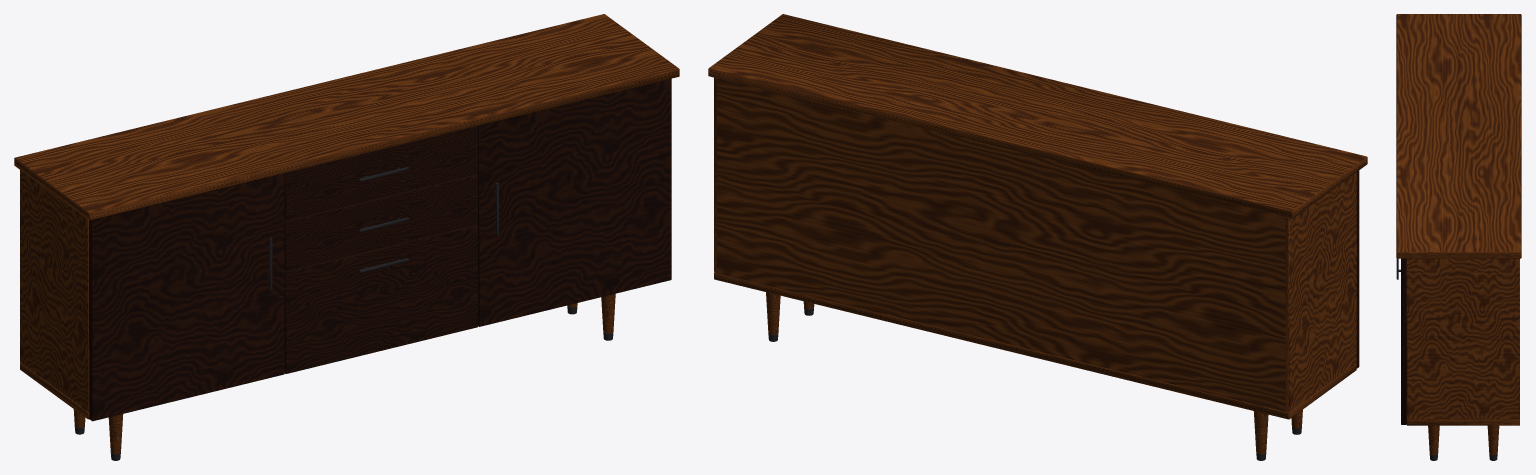
The model's file is dining_sideboard.glb.
3 views of the same model, side by side, from view 1: azimuth 30°, elevation 25°; view 2: azimuth 150°, elevation 25°; view 3: azimuth 270°, elevation 25° (orthographic). The views are drawn at different scales.
Visible parts, largest first — view 1: Ust_Taskin_Tabla, Kapak_Sol, Kapak_Sag, Kapak_Orta_Alt, Govde_Sol_Yan, Cekmece_Orta, Cekmece_Ust; view 2: Govde_Arka_Panel, Ust_Taskin_Tabla, Govde_Sol_Yan, Govde_Alt_Panel, Kapak_Sol; view 3: Ust_Taskin_Tabla, Govde_Sag_Yan, Kapak_Sag, Govde_Alt_Panel, Ayak_On_Sag, Ayak_Arka_Sag.
Boxes of the visible parts, box(x1,y1,x2,y2) form: Ust_Taskin_Tabla: box(14, 14, 679, 220); Kapak_Sol: box(89, 173, 284, 421); Kapak_Sag: box(477, 78, 671, 326); Kapak_Orta_Alt: box(284, 225, 477, 373); Govde_Sol_Yan: box(20, 170, 89, 411); Cekmece_Orta: box(284, 174, 477, 271); Cekmece_Ust: box(284, 126, 477, 220); Govde_Arka_Panel: box(717, 78, 1285, 411); Ust_Taskin_Tabla: box(708, 14, 1367, 218); Govde_Sol_Yan: box(1285, 172, 1356, 411); Govde_Alt_Panel: box(714, 272, 1356, 419); Kapak_Sol: box(1356, 170, 1359, 368); Ust_Taskin_Tabla: box(1396, 14, 1521, 258); Govde_Sag_Yan: box(1406, 258, 1519, 419); Kapak_Sag: box(1401, 258, 1406, 424); Govde_Alt_Panel: box(1406, 419, 1519, 425); Ayak_On_Sag: box(1428, 425, 1439, 455); Ayak_Arka_Sag: box(1487, 425, 1499, 455).
Size of the model in its own units: 1.8 by 0.8 by 0.4.
Materials: 4 (2 with a texture image).
